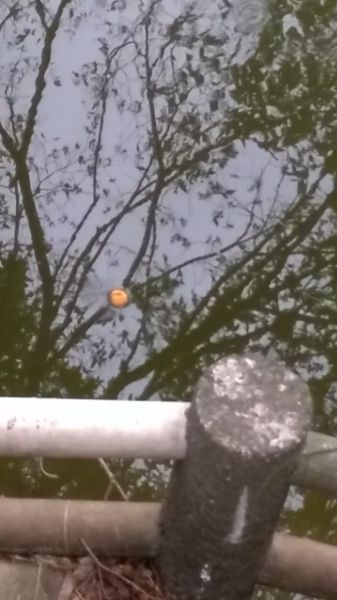eggs: (104, 286, 134, 310)
